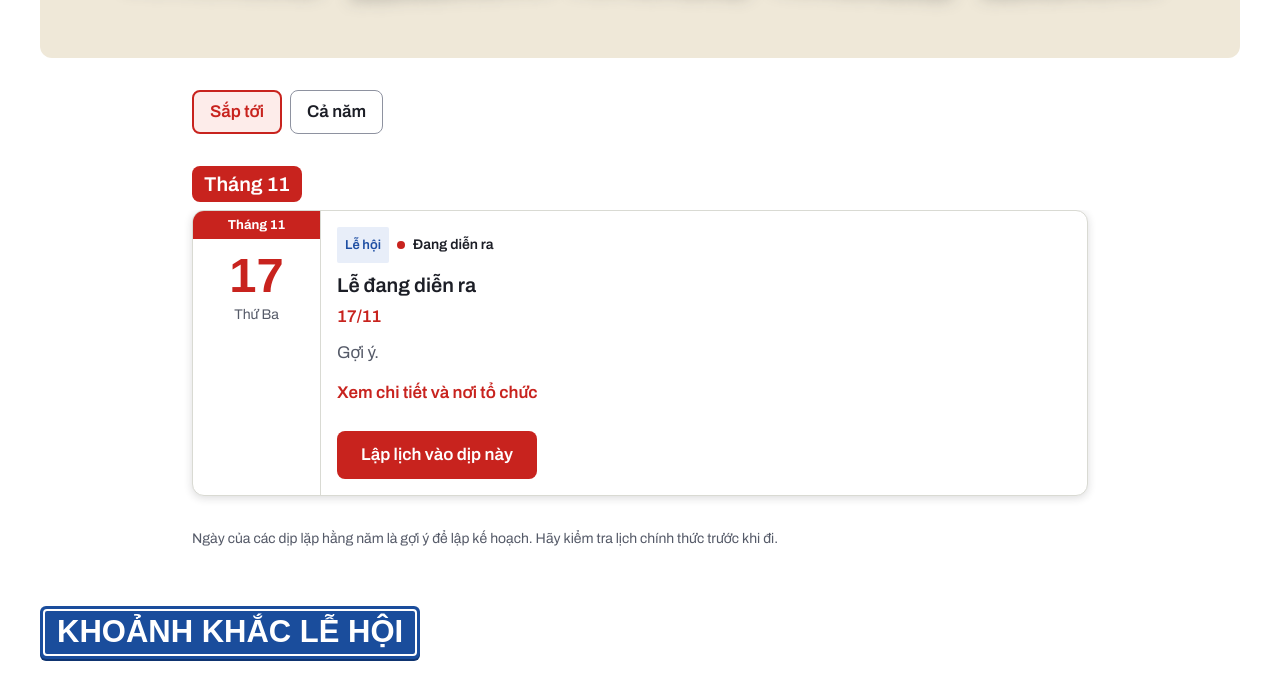
Test: festivals › groups festivals by month, marks the one happening now and plans for its dates
(page scrolled)
Expected: the text "Đang diễn ra" is shown, 397,234 -> 494,256
Expected: the text "Mô tả." is not shown
Click the button "Xem chi tiết và nơi tổ chức" at (437,393), box 337,371 -> 538,415
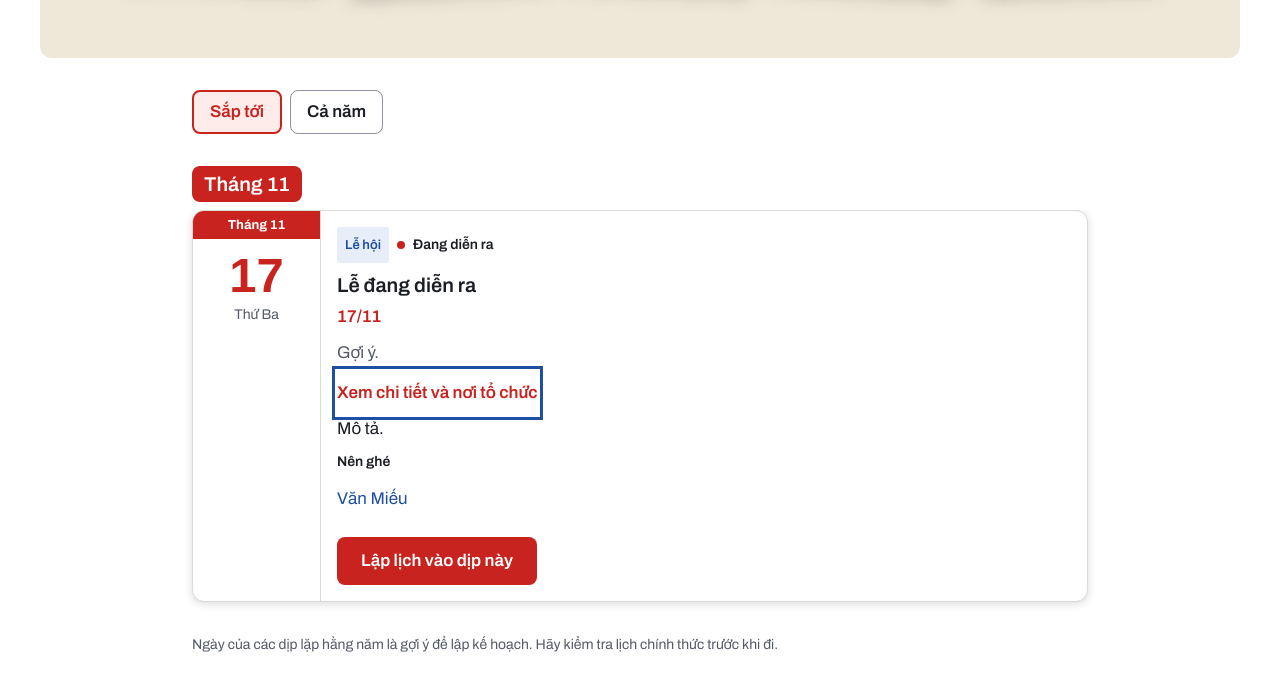
Expected: the text "Mô tả." is shown, 337,419 -> 384,438
